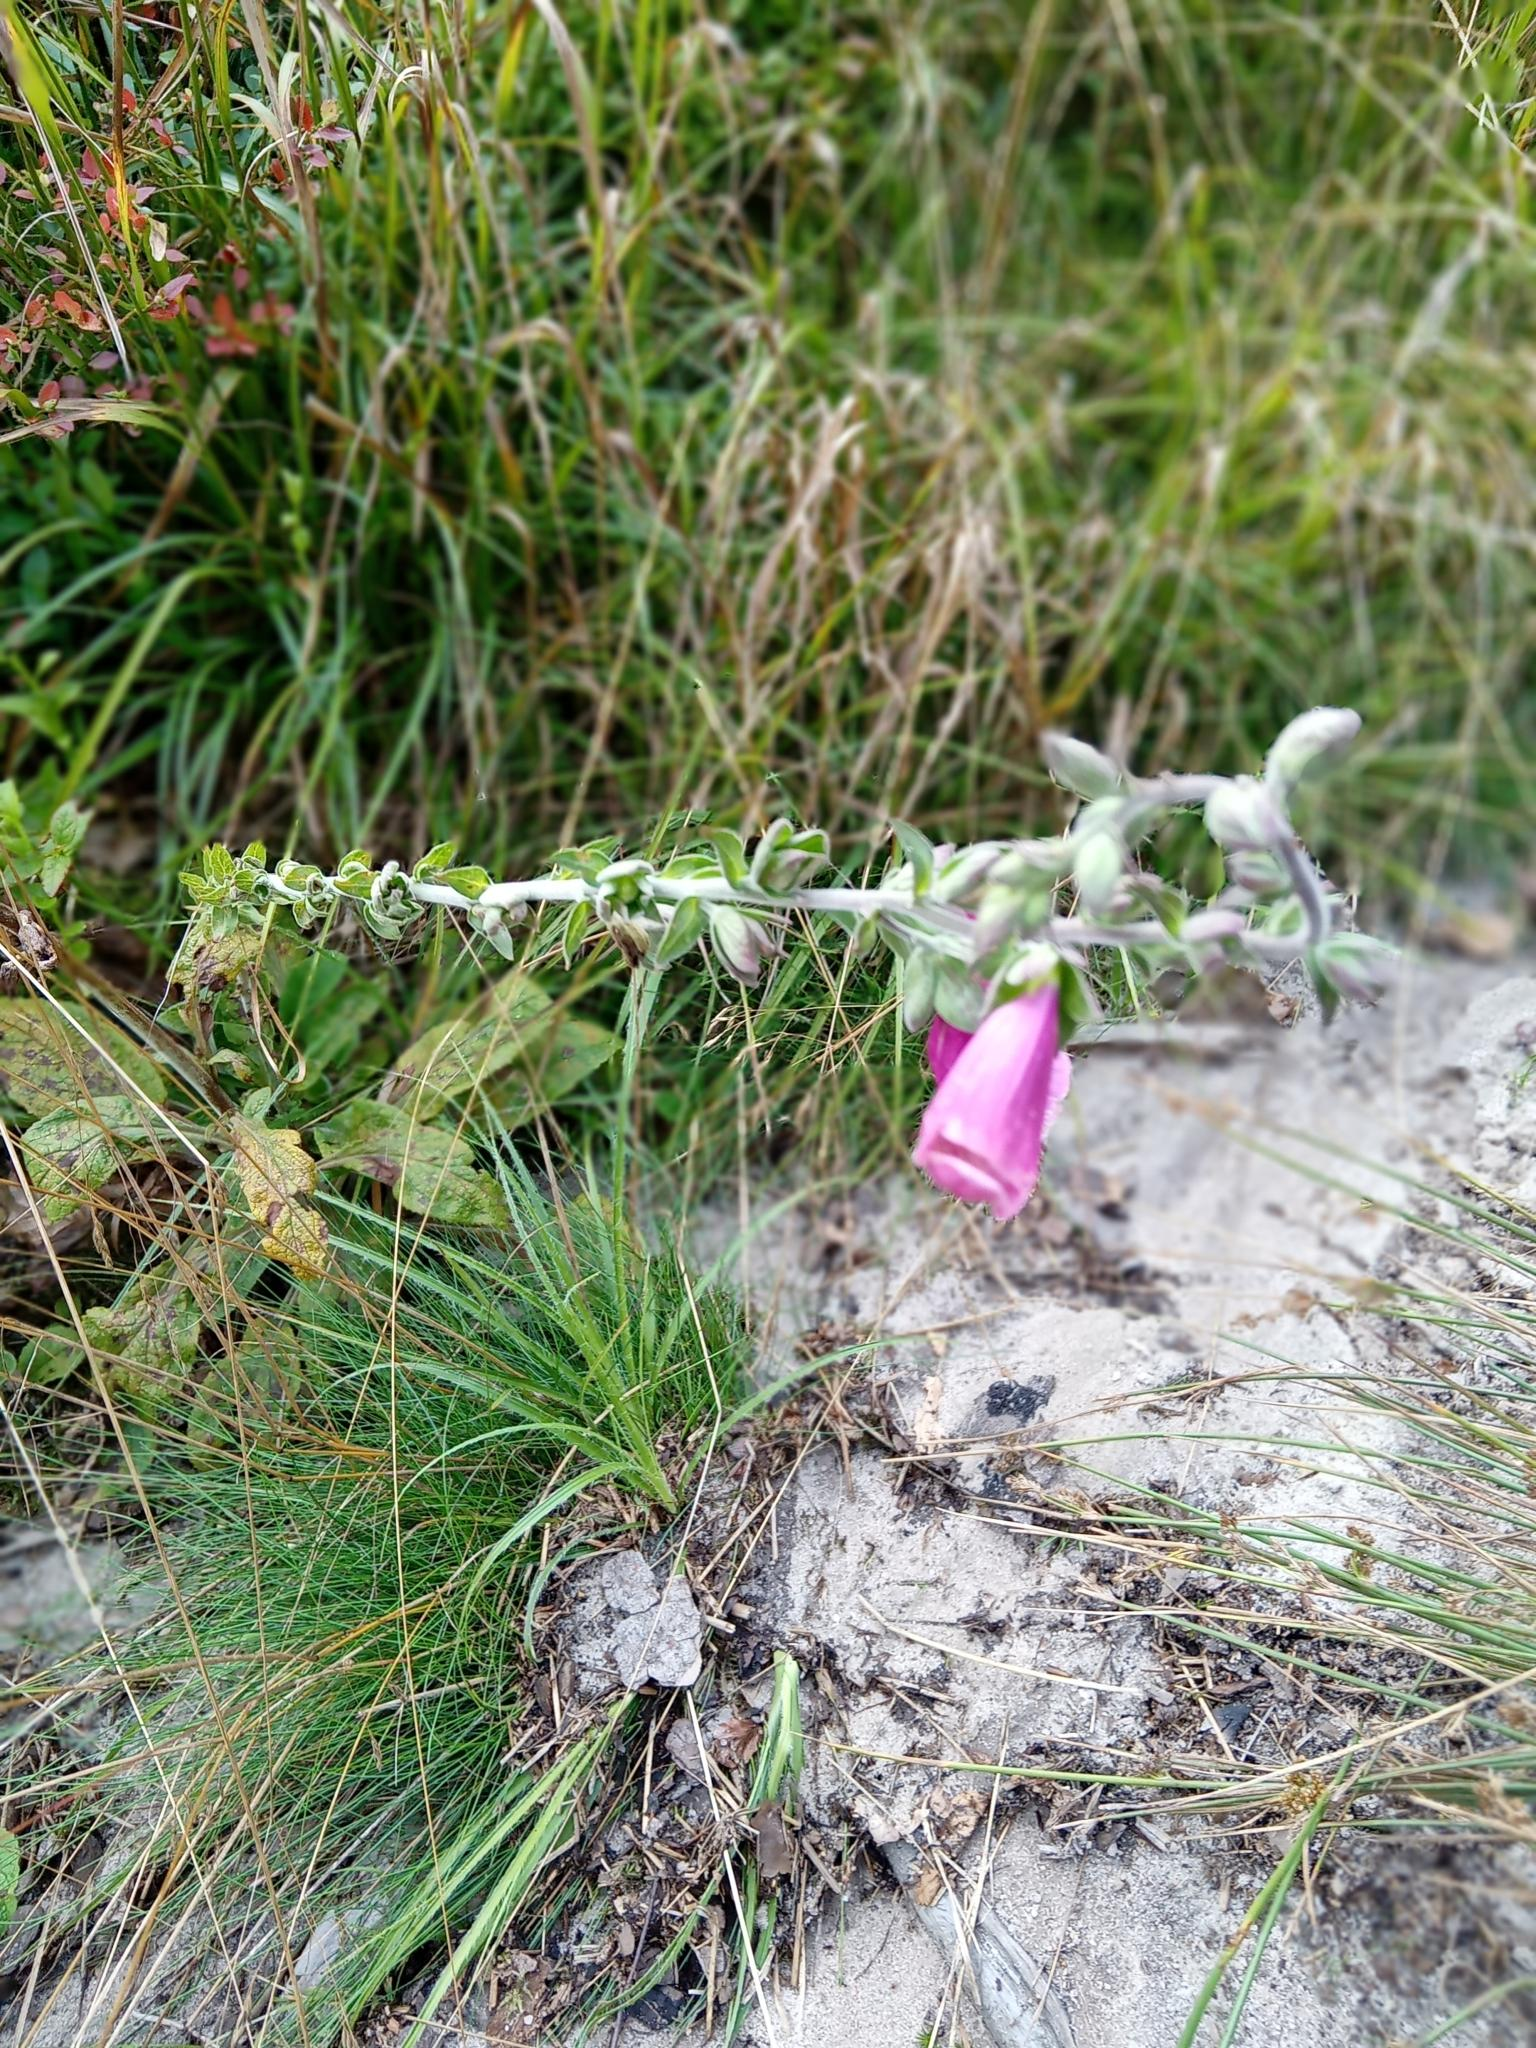Digitalis L: (11, 697, 1412, 1143)
